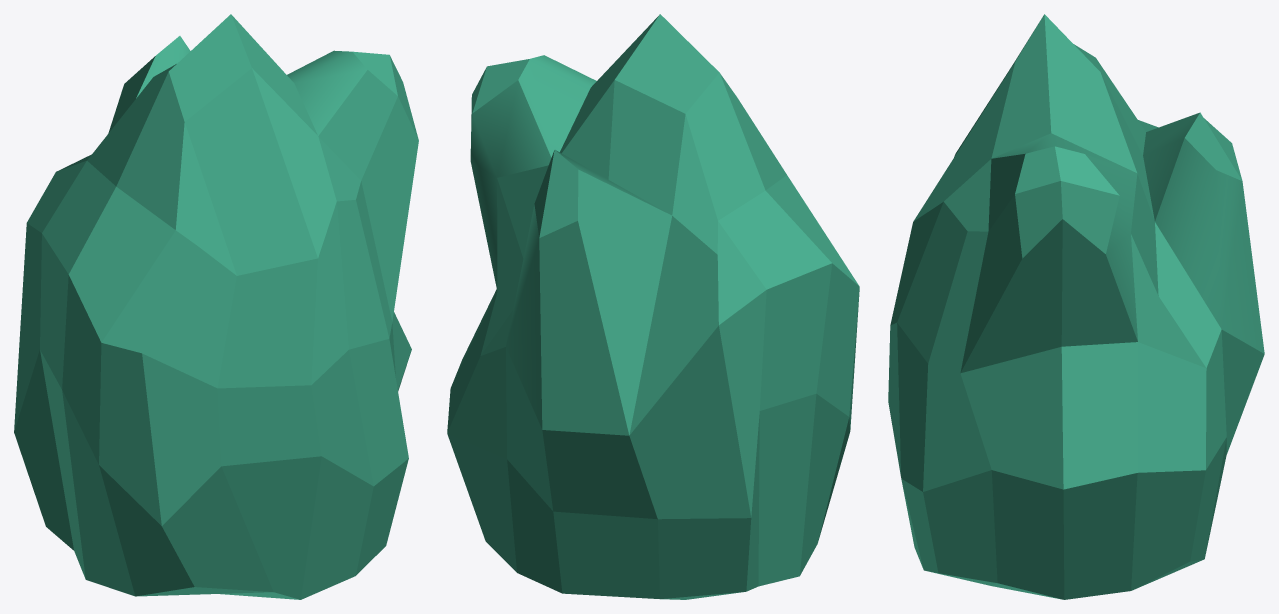
The model's file is Minerio.fbx.
3 views of the same model, side by side, from view 1: azimuth 30°, elevation 25°; view 2: azimuth 150°, elevation 25°; view 3: azimuth 270°, elevation 25° (orthographic).
Parts seen in each view (by area): view 1: pPlatonic1; view 2: pPlatonic1; view 3: pPlatonic1.
Part boxes in pixels (<box>): pPlatonic1: <box>14,14,418,599</box>; pPlatonic1: <box>447,14,859,599</box>; pPlatonic1: <box>888,14,1264,599</box>.
Bounding box in the file's own units: 0.4359 × 0.6434 × 0.4014.
